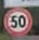limite 50: (2, 7, 33, 36)
